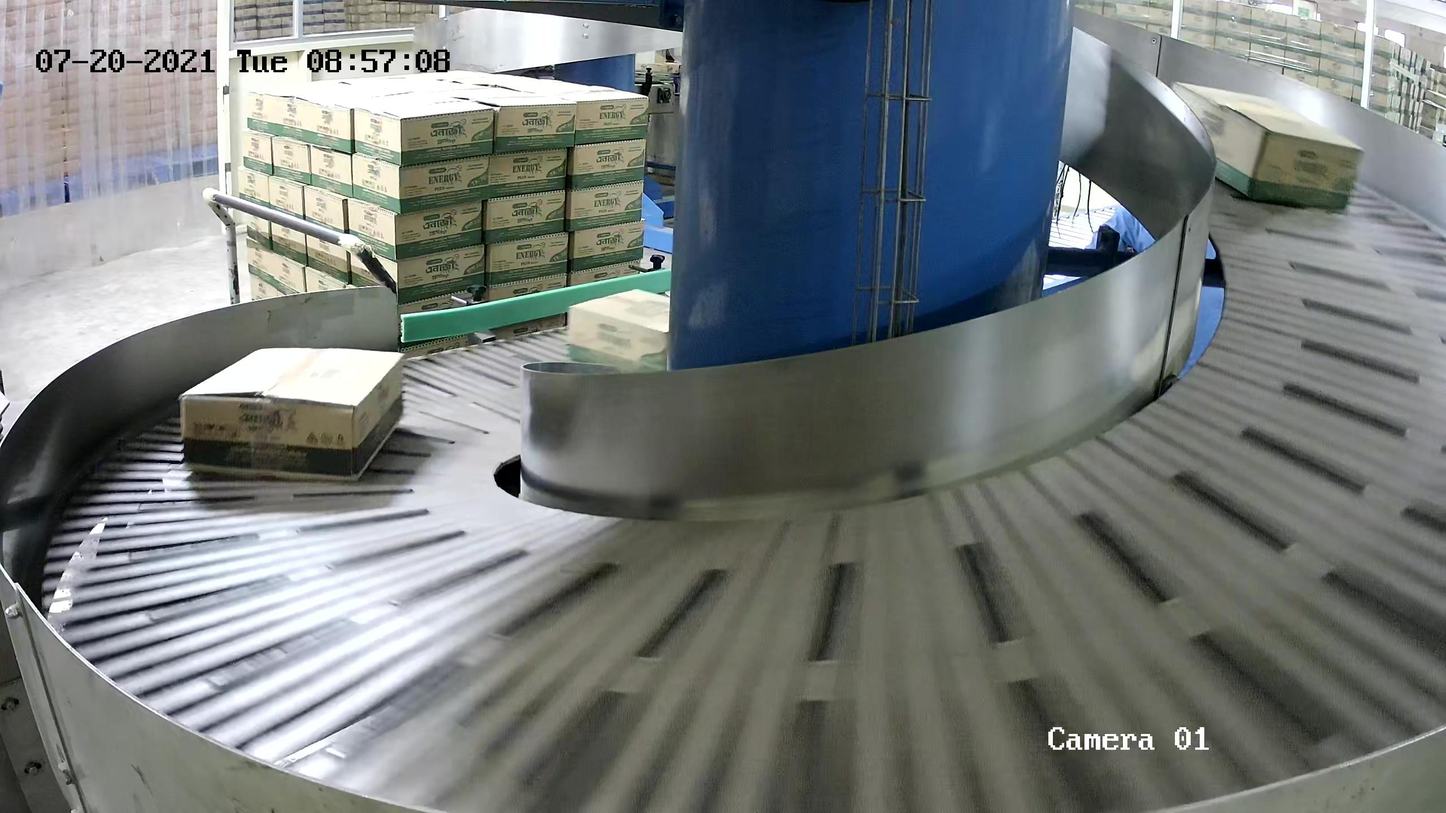Box: (178, 344, 406, 484), (1153, 77, 1369, 215), (564, 285, 705, 396)
